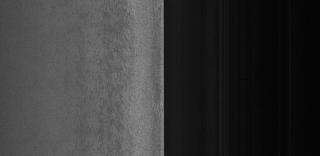silk spot: (96, 17, 136, 143)
